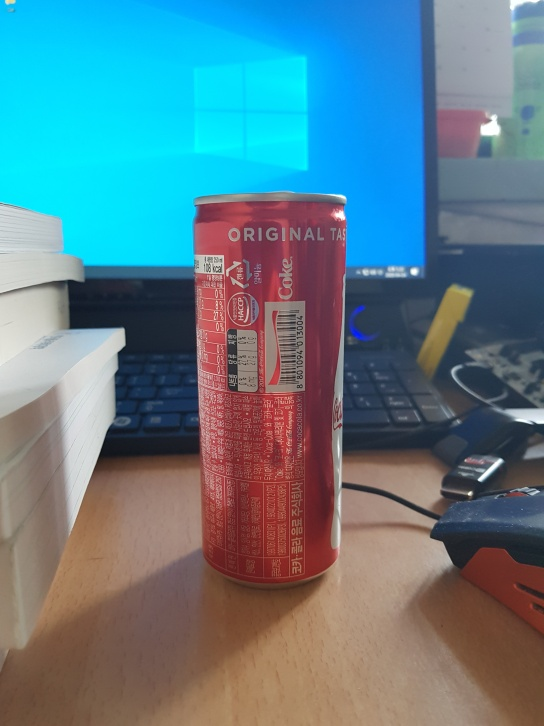Can: (190, 188, 349, 593)
